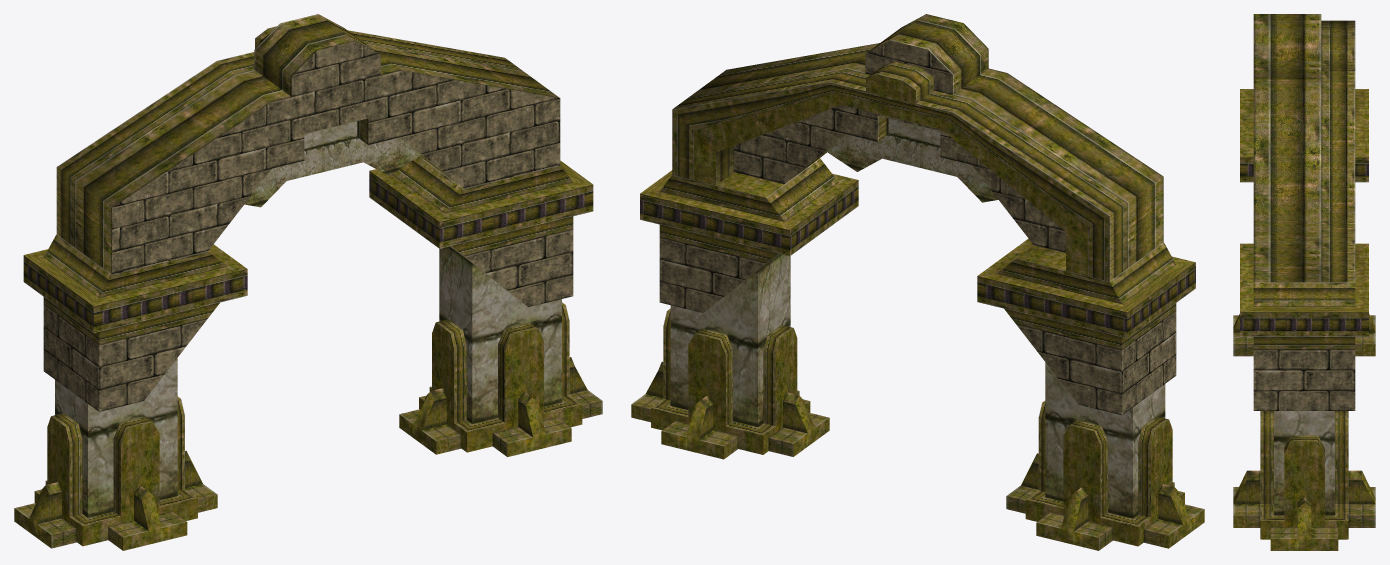
The model's file is OVERHILL_A_01_STONE_ARCHWAY_100.fbx.
3 renders of one model, left to right at view 1: azimuth 30°, elevation 25°; view 2: azimuth 150°, elevation 25°; view 3: azimuth 270°, elevation 25°, orthographic. The views are drawn at different scales.
Visible parts, largest first — view 1: OVERHILL_A_01_STONE_ARCHWAY_100; view 2: OVERHILL_A_01_STONE_ARCHWAY_100; view 3: OVERHILL_A_01_STONE_ARCHWAY_100.
Boxes of the visible parts, bbox=[...] form: OVERHILL_A_01_STONE_ARCHWAY_100: bbox=[14, 14, 602, 550]; OVERHILL_A_01_STONE_ARCHWAY_100: bbox=[631, 14, 1204, 550]; OVERHILL_A_01_STONE_ARCHWAY_100: bbox=[1233, 14, 1375, 550].
Size of the model in its own units: 86036 by 66000 by 20992.
5 materials, 5 textured.
